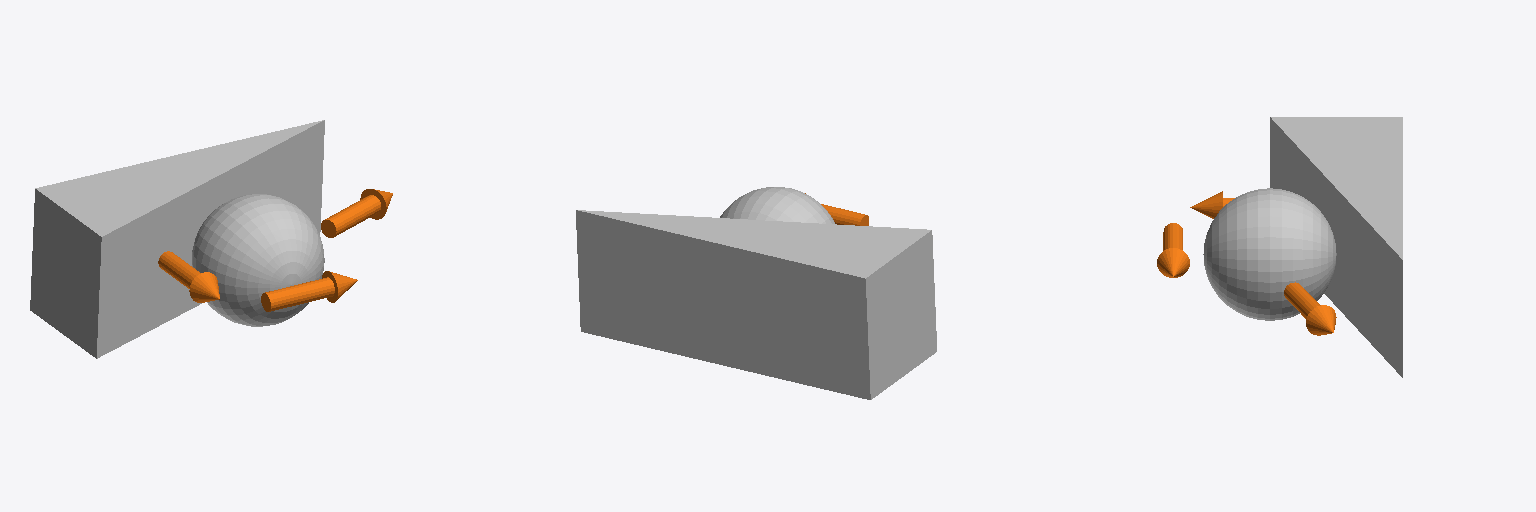
The model's file is Torque (I alpha).obj.
3 views of the same model, side by side, from view 1: azimuth 30°, elevation 25°; view 2: azimuth 150°, elevation 25°; view 3: azimuth 270°, elevation 25° (orthographic).
Parts seen in each view (by area): view 1: obj_0; view 2: obj_0; view 3: obj_0.
Part boxes in pixels (left/top/right/bottom): obj_0: left=30, top=120, right=392, bottom=358; obj_0: left=576, top=187, right=936, bottom=399; obj_0: left=1157, top=117, right=1402, bottom=377.
Bounding box in the file's own units: 57 × 20.35 × 37.